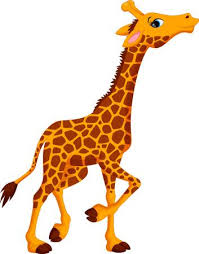Jirafa: (80, 1, 199, 144)
